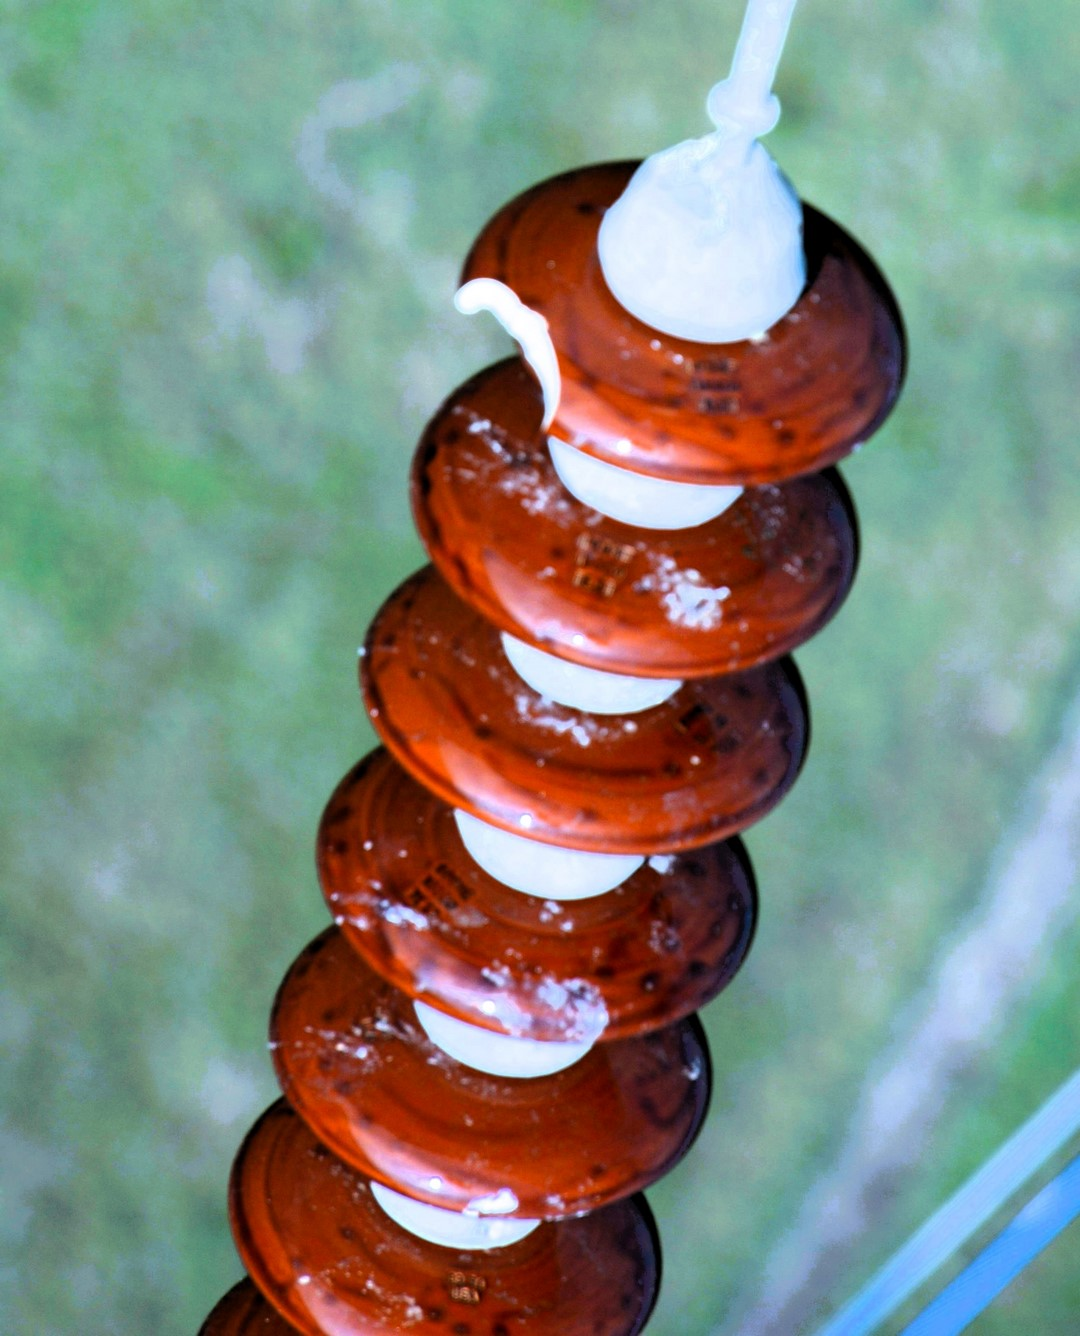insulator breakage: (438, 142, 924, 495)
